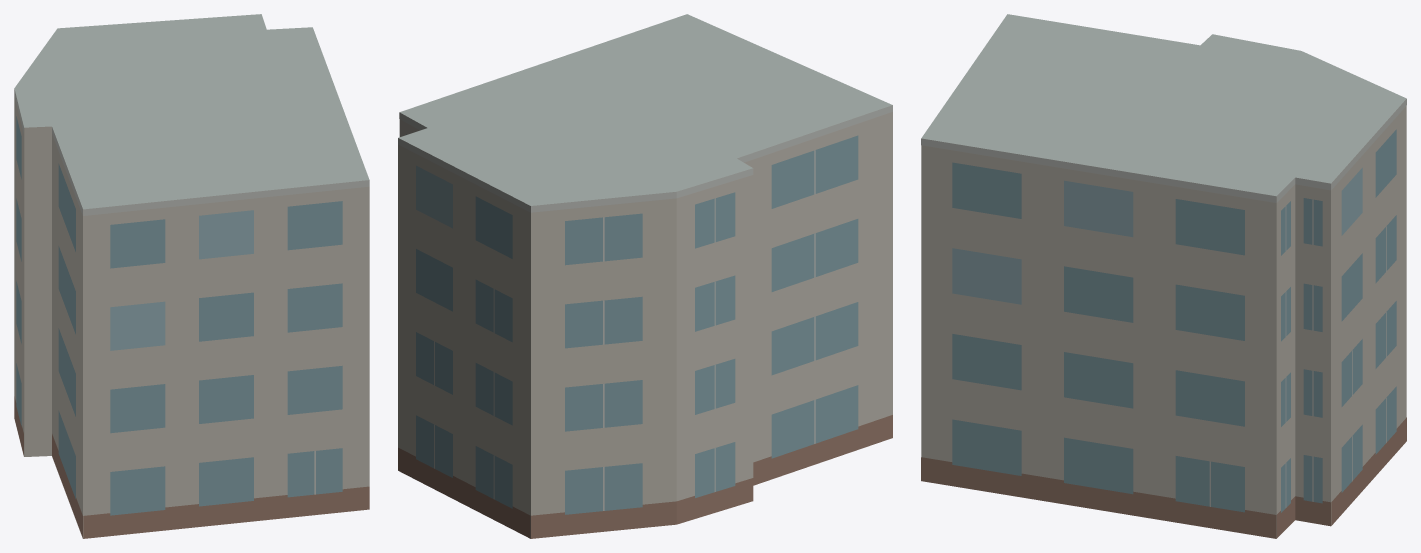
File: survey-upis-32815120.glb
The picture shows the model from 3 angles, left to right: view 1: azimuth 30°, elevation 25°; view 2: azimuth 150°, elevation 25°; view 3: azimuth 270°, elevation 25°; orthographic projection. The views are drawn at different scales.
Visible parts, largest first — view 1: survey-upis-32815120.tmp; view 2: survey-upis-32815120.tmp; view 3: survey-upis-32815120.tmp.
Boxes of the visible parts, x1,y1,x2,y2 form: survey-upis-32815120.tmp: (14,14,369,538); survey-upis-32815120.tmp: (398,14,892,538); survey-upis-32815120.tmp: (921,14,1406,538).
Size of the model in its own units: 13.92 by 12.2 by 15.68.
